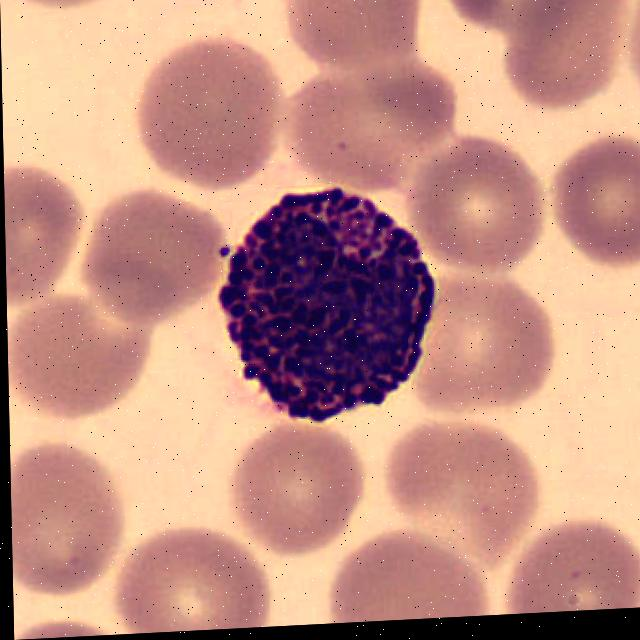basophil: (213, 178, 443, 430)
rbc: (377, 400, 551, 560), (19, 272, 192, 422), (132, 24, 284, 191), (90, 500, 272, 632), (290, 51, 456, 187), (417, 265, 562, 415), (207, 416, 369, 548), (414, 131, 553, 266), (498, 486, 640, 615), (89, 184, 226, 315), (10, 430, 125, 586), (326, 520, 487, 624), (546, 130, 640, 262), (512, 5, 618, 119), (13, 145, 85, 298), (270, 0, 425, 67), (520, 0, 629, 59), (450, 0, 524, 40)
